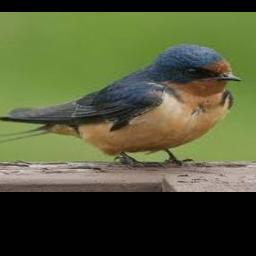Swallow: (0, 44, 242, 163)
